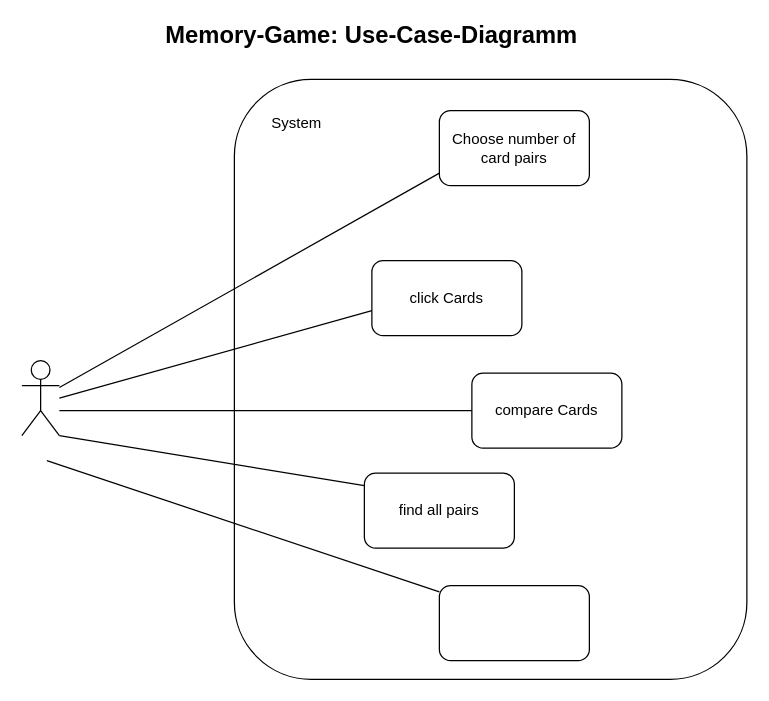
The diagram is 769 pixels wide and 701 high, and some of its shapes have lost their labels. The box of each missing label's shape, as (x1, y1, x2, y2) in pixels:
Gratulation and time User needed: (438, 584, 589, 661)
User: (21, 359, 59, 436)
